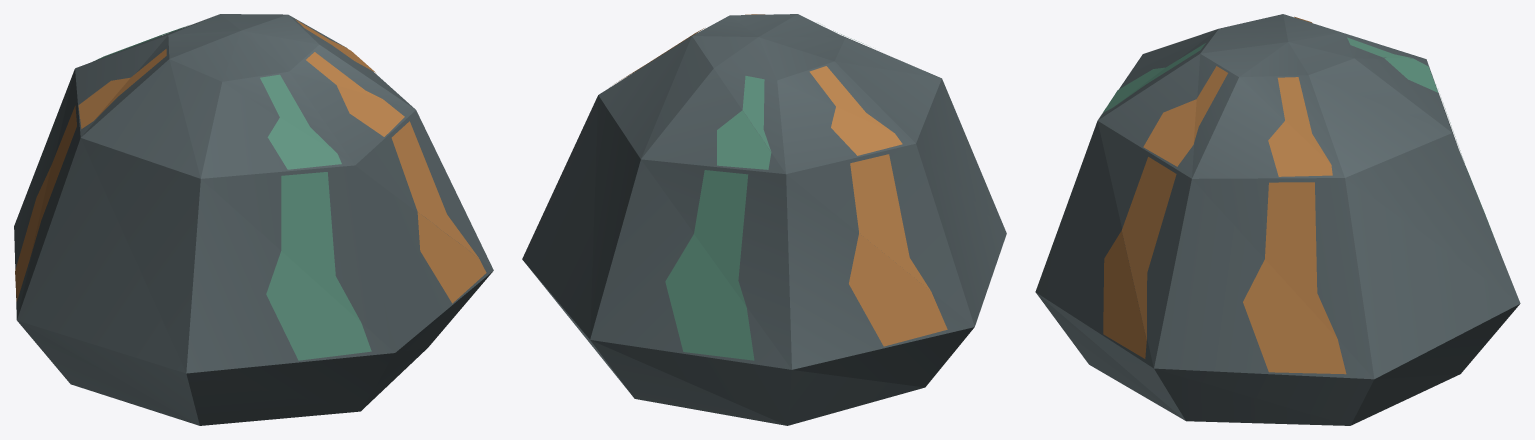
File: rock_copper_ore.glb
3 views of the same model, side by side, from view 1: azimuth 30°, elevation 25°; view 2: azimuth 150°, elevation 25°; view 3: azimuth 270°, elevation 25° (orthographic).
Visible parts, largest first — view 1: Body; view 2: Body; view 3: Body.
Boxes of the visible parts, box(x1,y1,x2,y2) form: Body: box(14, 14, 493, 425); Body: box(522, 14, 1006, 425); Body: box(1035, 14, 1520, 425).
Bounding box in the file's own units: 0.8812 × 0.63 × 0.8852.
